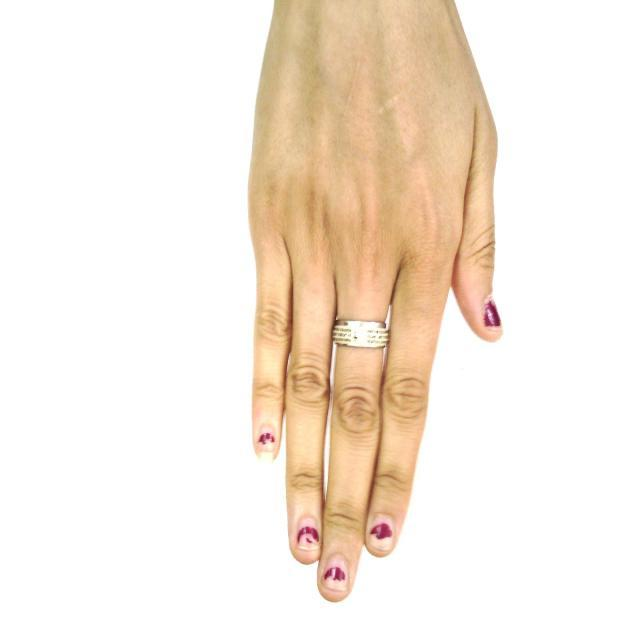Fingernail: (324, 558, 347, 591), (369, 520, 393, 550), (257, 429, 276, 461), (297, 525, 318, 551), (485, 298, 501, 328)
